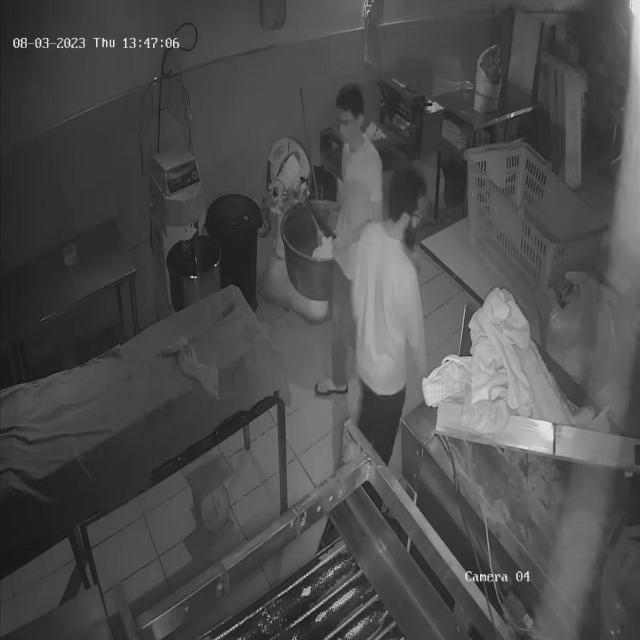Knife: (296, 182, 342, 248)
